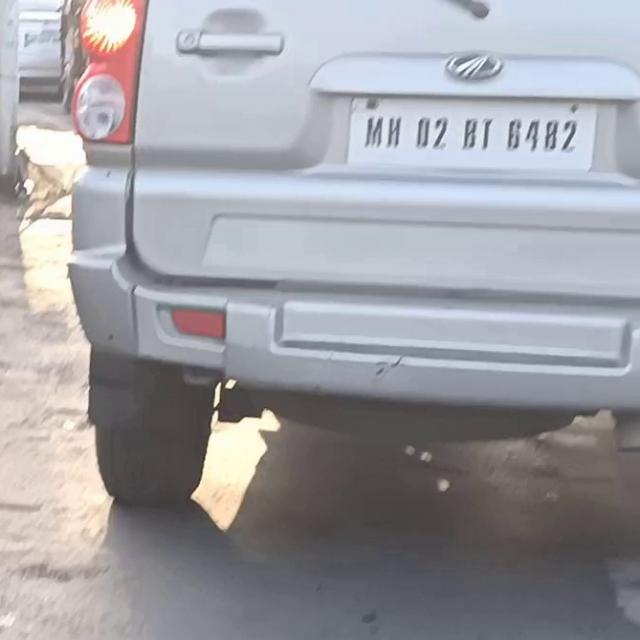license-plate: (346, 92, 597, 171)
